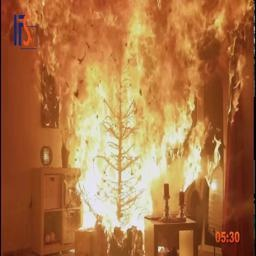fire: (17, 0, 256, 231)
